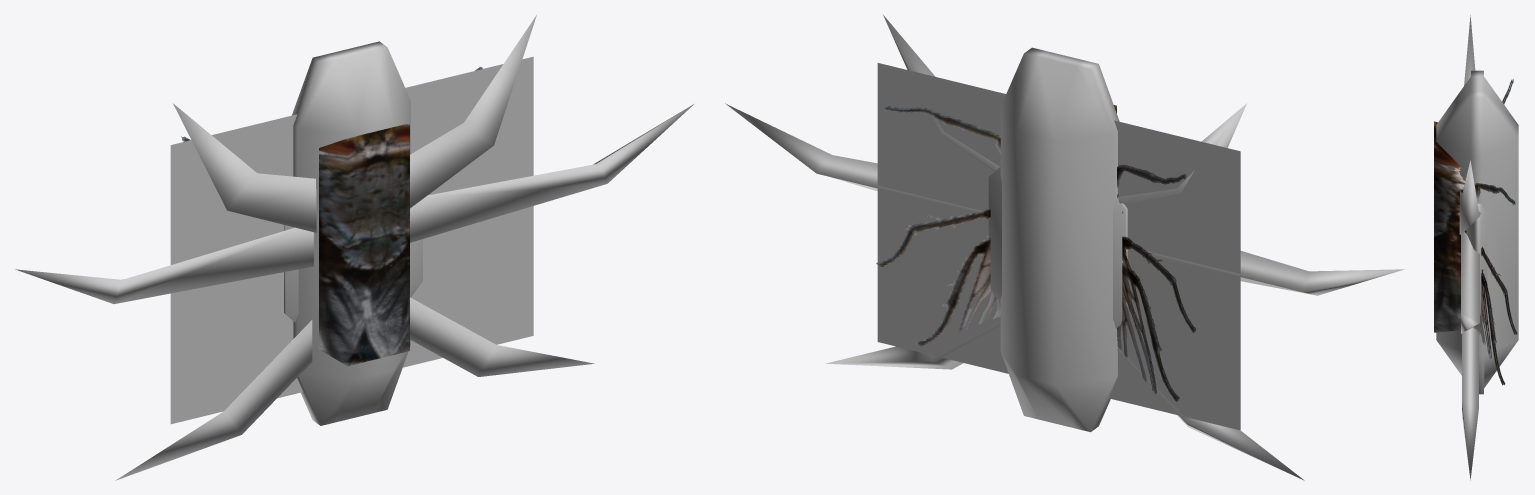
Rendered from insects_02.fbx.
3 renders of one model, left to right at view 1: azimuth 30°, elevation 25°; view 2: azimuth 150°, elevation 25°; view 3: azimuth 270°, elevation 25°, orthographic. The views are drawn at different scales.
Visible parts, largest first — view 1: Mesh_ncl1_6, Mesh_ncl1_8, Mesh_ncl1_7, Mesh, Mesh_ncl1_1, Mesh_ncl1_2, Mesh_ncl1_3; view 2: Mesh_ncl1_6, Mesh_ncl1_7, Mesh_ncl1_8, Mesh_ncl1_1, Mesh, Mesh_ncl1_2, Mesh_ncl1_3; view 3: Mesh_ncl1_6, Mesh, Mesh_ncl1_3.
Boxes of the visible parts, box(x1,y1,x2,y2) form: Mesh_ncl1_6: box(15, 15, 693, 480); Mesh_ncl1_8: box(170, 57, 533, 423); Mesh_ncl1_7: box(170, 57, 533, 424); Mesh: box(181, 67, 482, 366); Mesh_ncl1_1: box(223, 156, 463, 370); Mesh_ncl1_2: box(223, 156, 463, 370); Mesh_ncl1_3: box(284, 225, 422, 322); Mesh_ncl1_6: box(725, 15, 1404, 480); Mesh_ncl1_7: box(877, 63, 1240, 430); Mesh_ncl1_8: box(877, 63, 1240, 429); Mesh_ncl1_1: box(930, 116, 1187, 372); Mesh: box(876, 105, 1195, 401); Mesh_ncl1_2: box(930, 117, 1187, 361); Mesh_ncl1_3: box(988, 167, 1127, 328); Mesh_ncl1_6: box(1436, 15, 1518, 480); Mesh: box(1434, 78, 1517, 385); Mesh_ncl1_3: box(1467, 203, 1487, 315).
Size of the model in its own units: 32.92 by 16.94 by 4.44.
